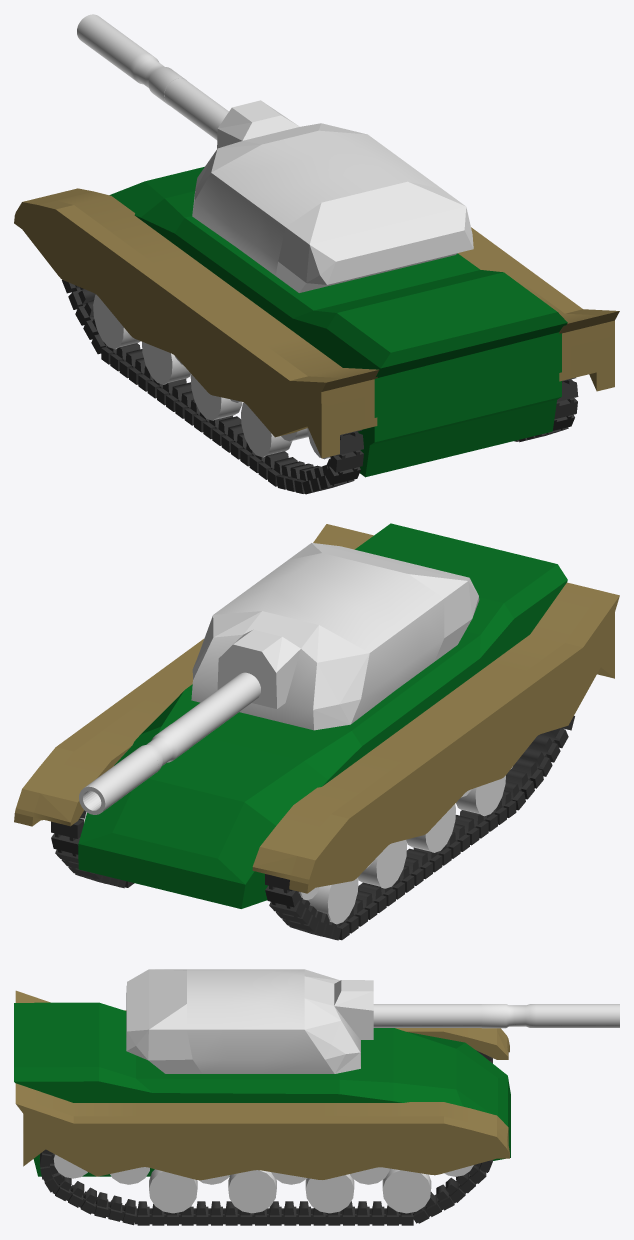
Rendered from FlatShadedTank.fbx.
3 renders of one model, top to bottom at view 1: azimuth 30°, elevation 25°; view 2: azimuth 150°, elevation 25°; view 3: azimuth 270°, elevation 25°, orthographic. The views are drawn at different scales.
Visible parts, largest first — view 1: Box001, TrackArmour, Box002, TrackArmour001, Cylinder010, Cylinder011, Cylinder026, Cylinder008, Cylinder014, Cylinder015, Cylinder024; view 2: Box001, TrackArmour, Box002, TrackArmour001, Cylinder011, Cylinder010, Cylinder015, Cylinder014, Cylinder008, Cylinder026, Cylinder024; view 3: TrackArmour001, Box001, Box002, Cylinder011, Cylinder010, TrackArmour, Cylinder036, Cylinder032, Cylinder030, Cylinder034, Cylinder008, Cylinder035 (+2 smaller).
Part boxes in pixels (<box>): Box001: <box>109,166,567,477</box>; TrackArmour: <box>14,188,379,458</box>; Box002: <box>192,100,473,292</box>; TrackArmour001: <box>458,227,619,391</box>; Cylinder010: <box>77,14,149,79</box>; Cylinder011: <box>164,78,228,140</box>; Cylinder026: <box>241,402,292,457</box>; Cylinder008: <box>129,53,186,104</box>; Cylinder014: <box>142,341,190,384</box>; Cylinder015: <box>93,294,140,349</box>; Cylinder024: <box>190,374,242,420</box>; Box001: <box>78,523,567,908</box>; TrackArmour: <box>252,582,619,893</box>; Box002: <box>191,543,479,730</box>; TrackArmour001: <box>14,524,373,826</box>; Cylinder011: <box>172,672,260,747</box>; Cylinder010: <box>79,748,158,814</box>; Cylinder015: <box>308,877,358,924</box>; Cylinder014: <box>358,840,406,888</box>; Cylinder008: <box>137,722,192,773</box>; Cylinder026: <box>456,775,505,816</box>; Cylinder024: <box>406,804,455,852</box>; TrackArmour001: <box>15,1083,509,1180</box>; Box001: <box>14,1002,510,1176</box>; Box002: <box>126,969,373,1073</box>; Cylinder011: <box>373,1004,481,1027</box>; Cylinder010: <box>536,1004,619,1027</box>; TrackArmour: <box>15,990,509,1059</box>; Cylinder036: <box>382,1168,431,1213</box>; Cylinder032: <box>228,1170,276,1213</box>; Cylinder030: <box>149,1169,197,1213</box>; Cylinder034: <box>305,1174,354,1213</box>; Cylinder008: <box>481,1004,536,1028</box>; Cylinder035: <box>350,1167,389,1184</box>.
Bounding box in the file's own units: 139 × 111 × 315.
